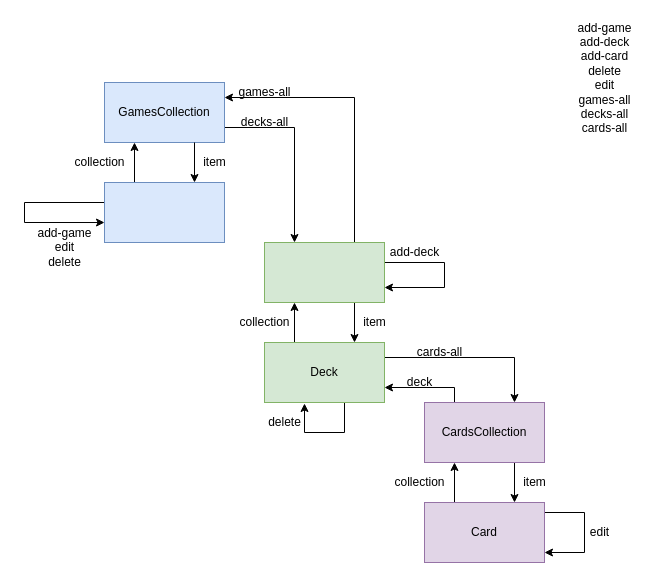
The diagram is 657 pixels wide and 580 high, and some of its shapes have lost their labels. The shapes that lost their labels are listed below. From the top down, each one's centre as x and y in pixels, then its label:
the point at 164,212: Game
the point at 324,272: DecksCollection
